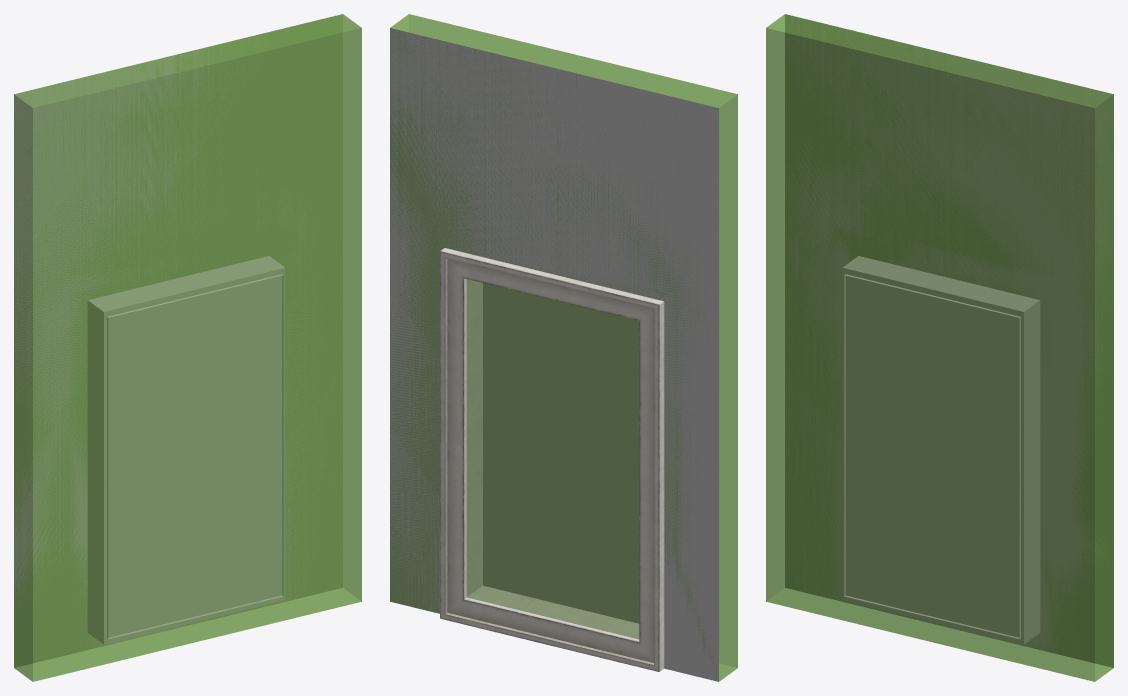
Rendered from F2_md_Wall_5x3_WL_01.fbx.
The picture shows the model from 3 angles, left to right: view 1: azimuth 30°, elevation 25°; view 2: azimuth 150°, elevation 25°; view 3: azimuth 330°, elevation 25°; orthographic projection.
Visible parts, largest first — view 1: F2_md_Wall_5x3_WL_01_col_01, F2_md_Wall_5x3_WL_01_LOD0; view 2: F2_md_Wall_5x3_WL_01_LOD0, F2_md_Wall_5x3_WL_01_col_01; view 3: F2_md_Wall_5x3_WL_01_col_01, F2_md_Wall_5x3_WL_01_LOD0.
Boxes of the visible parts, x1,y1,x2,y2 form: F2_md_Wall_5x3_WL_01_col_01: [14, 14, 361, 681]; F2_md_Wall_5x3_WL_01_LOD0: [14, 14, 342, 667]; F2_md_Wall_5x3_WL_01_LOD0: [390, 28, 718, 681]; F2_md_Wall_5x3_WL_01_col_01: [390, 14, 737, 681]; F2_md_Wall_5x3_WL_01_col_01: [766, 14, 1113, 681]; F2_md_Wall_5x3_WL_01_LOD0: [785, 14, 1113, 667].
Size of what is drawn, in the model's own units: 300 by 500 by 37.61.
